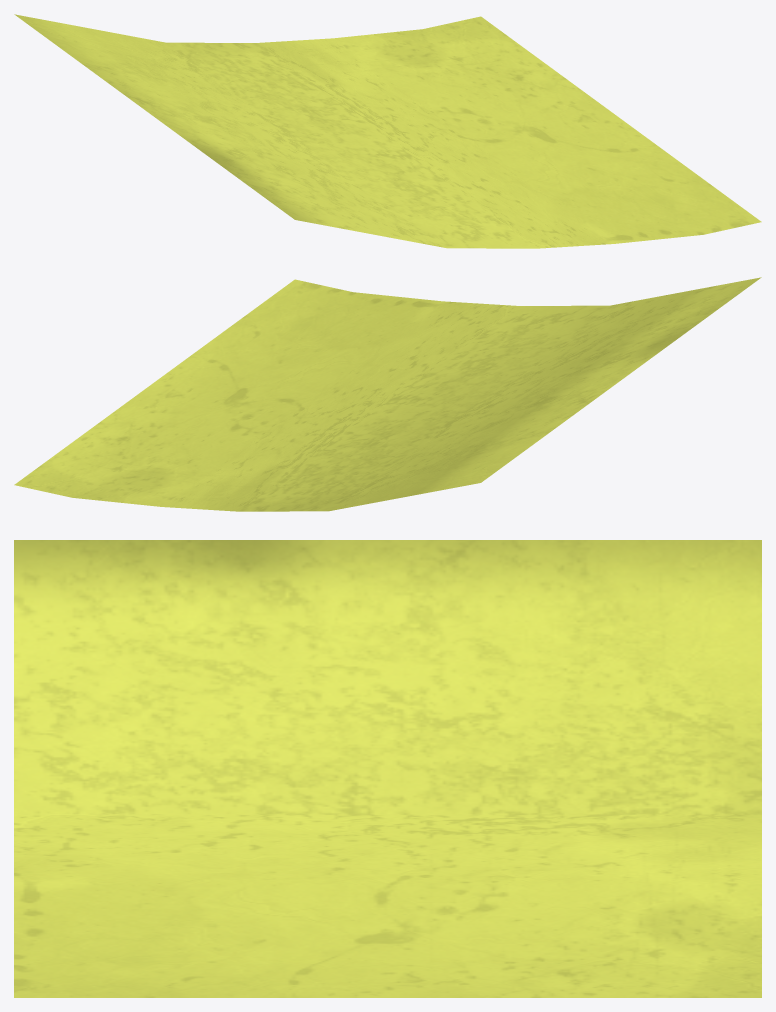
File: SM_PostItNote_09.fbx
The picture shows the model from 3 angles, top to bottom: view 1: azimuth 30°, elevation 25°; view 2: azimuth 150°, elevation 25°; view 3: azimuth 270°, elevation 25°; orthographic projection. The views are drawn at different scales.
Parts seen in each view (by area): view 1: SM_PostItNote_09_LOD0; view 2: SM_PostItNote_09_LOD0; view 3: SM_PostItNote_09_LOD0.
Boxes of the visible parts, left/top/right/bottom form: SM_PostItNote_09_LOD0: left=14, top=14, right=761, bottom=248; SM_PostItNote_09_LOD0: left=14, top=277, right=761, bottom=511; SM_PostItNote_09_LOD0: left=14, top=540, right=761, bottom=997.
Size of the model in its own units: 11.47 by 11.95 by 2.72.
Materials: 1 (1 with a texture image).
